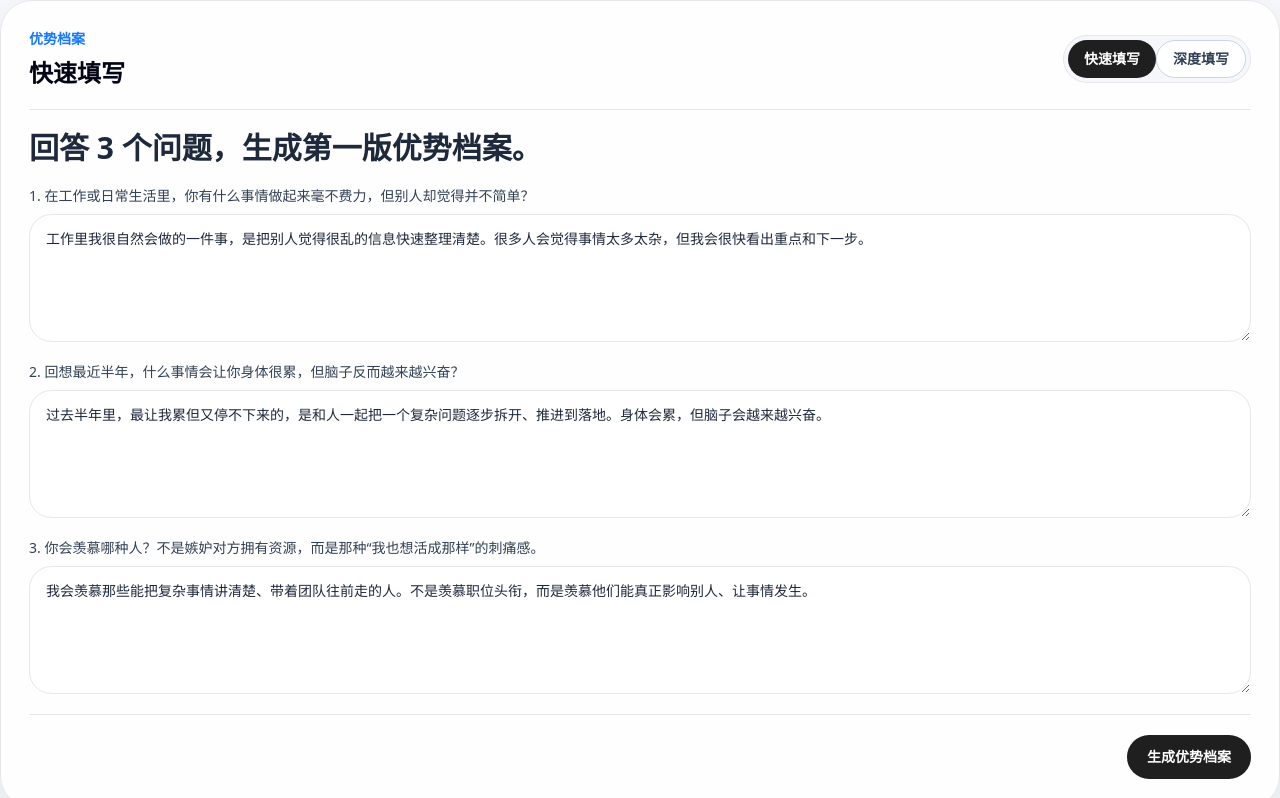
TalentProfileWorkbench › keeps deep discovery fillable when the model falls back to a basic question
Click the button "深度填写" at coordinates (1201, 59), box [1156, 40, 1246, 78]
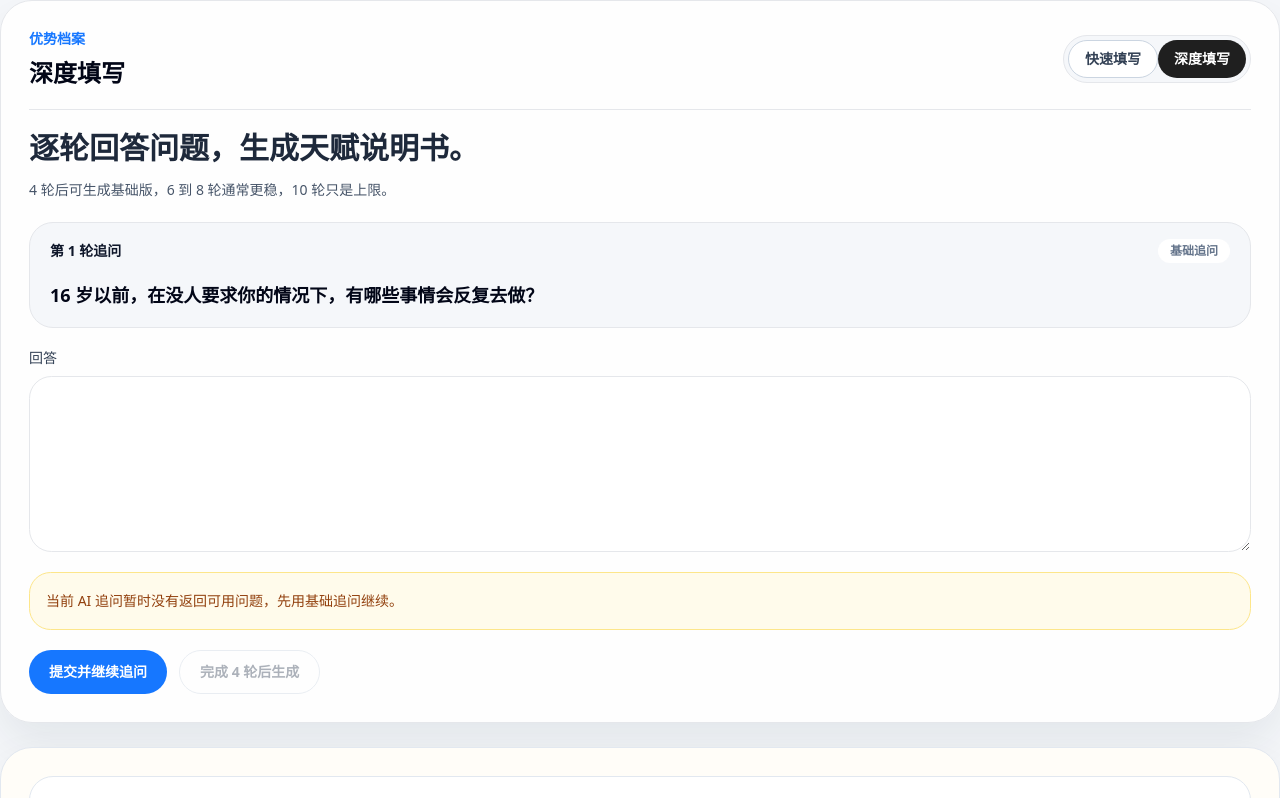
Check: the text "16 岁以前，在没人要求你的情况下，有哪些事情会反复去做？" is shown, box [50, 283, 543, 307]
Check: the text "基础追问" is shown, box [1158, 239, 1230, 263]
Check: the button "提交并继续追问" is enabled, box [29, 650, 167, 694]
